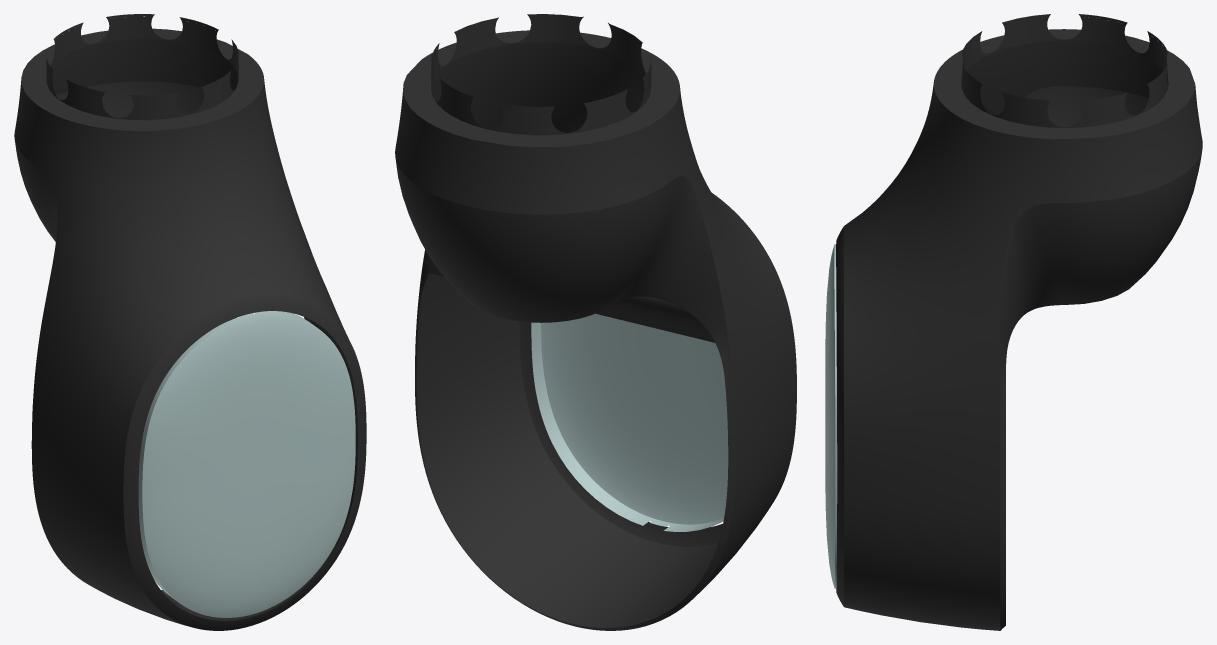
File: left_arm_link4.obj
3 renders of one model, left to right at view 1: azimuth 30°, elevation 25°; view 2: azimuth 150°, elevation 25°; view 3: azimuth 270°, elevation 25°, orthographic. The views are drawn at different scales.
Visible parts, largest first — view 1: 2, 1.002; view 2: 2, 1.002; view 3: 2, 1.002.
Boxes of the visible parts, bbox=[...] form: 2: bbox=[14, 14, 366, 630]; 1.002: bbox=[138, 311, 355, 617]; 2: bbox=[395, 14, 796, 630]; 1.002: bbox=[531, 313, 728, 531]; 2: bbox=[836, 14, 1202, 630]; 1.002: bbox=[825, 244, 837, 588].
Size of the model in its own units: 0.0944 by 0.1665 by 0.102.
